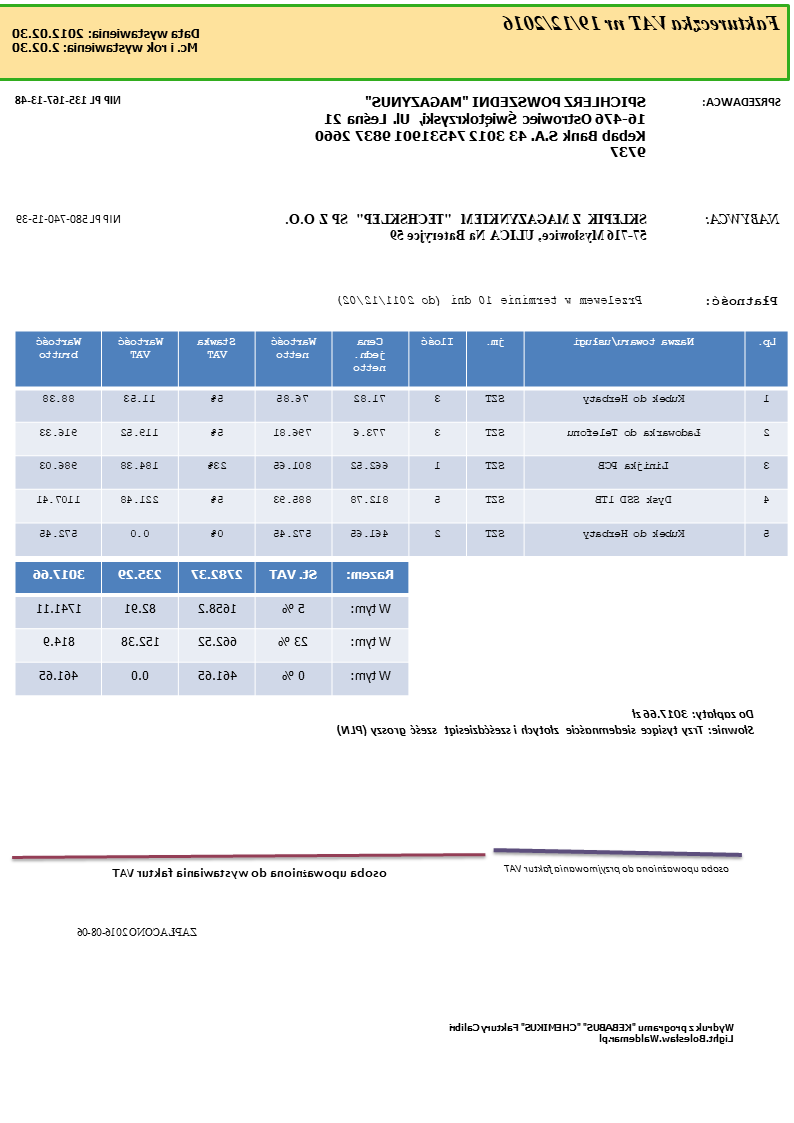Table: (13, 328, 790, 559), (14, 561, 410, 697)
TextBox: (312, 92, 649, 160), (335, 705, 757, 740), (285, 210, 649, 245), (446, 1019, 736, 1045), (500, 11, 782, 36), (336, 290, 645, 310), (10, 24, 202, 55), (112, 864, 390, 882), (502, 861, 732, 878), (75, 923, 201, 940), (14, 211, 123, 228), (11, 91, 123, 107), (703, 208, 783, 228), (702, 93, 783, 110), (702, 292, 780, 308)
